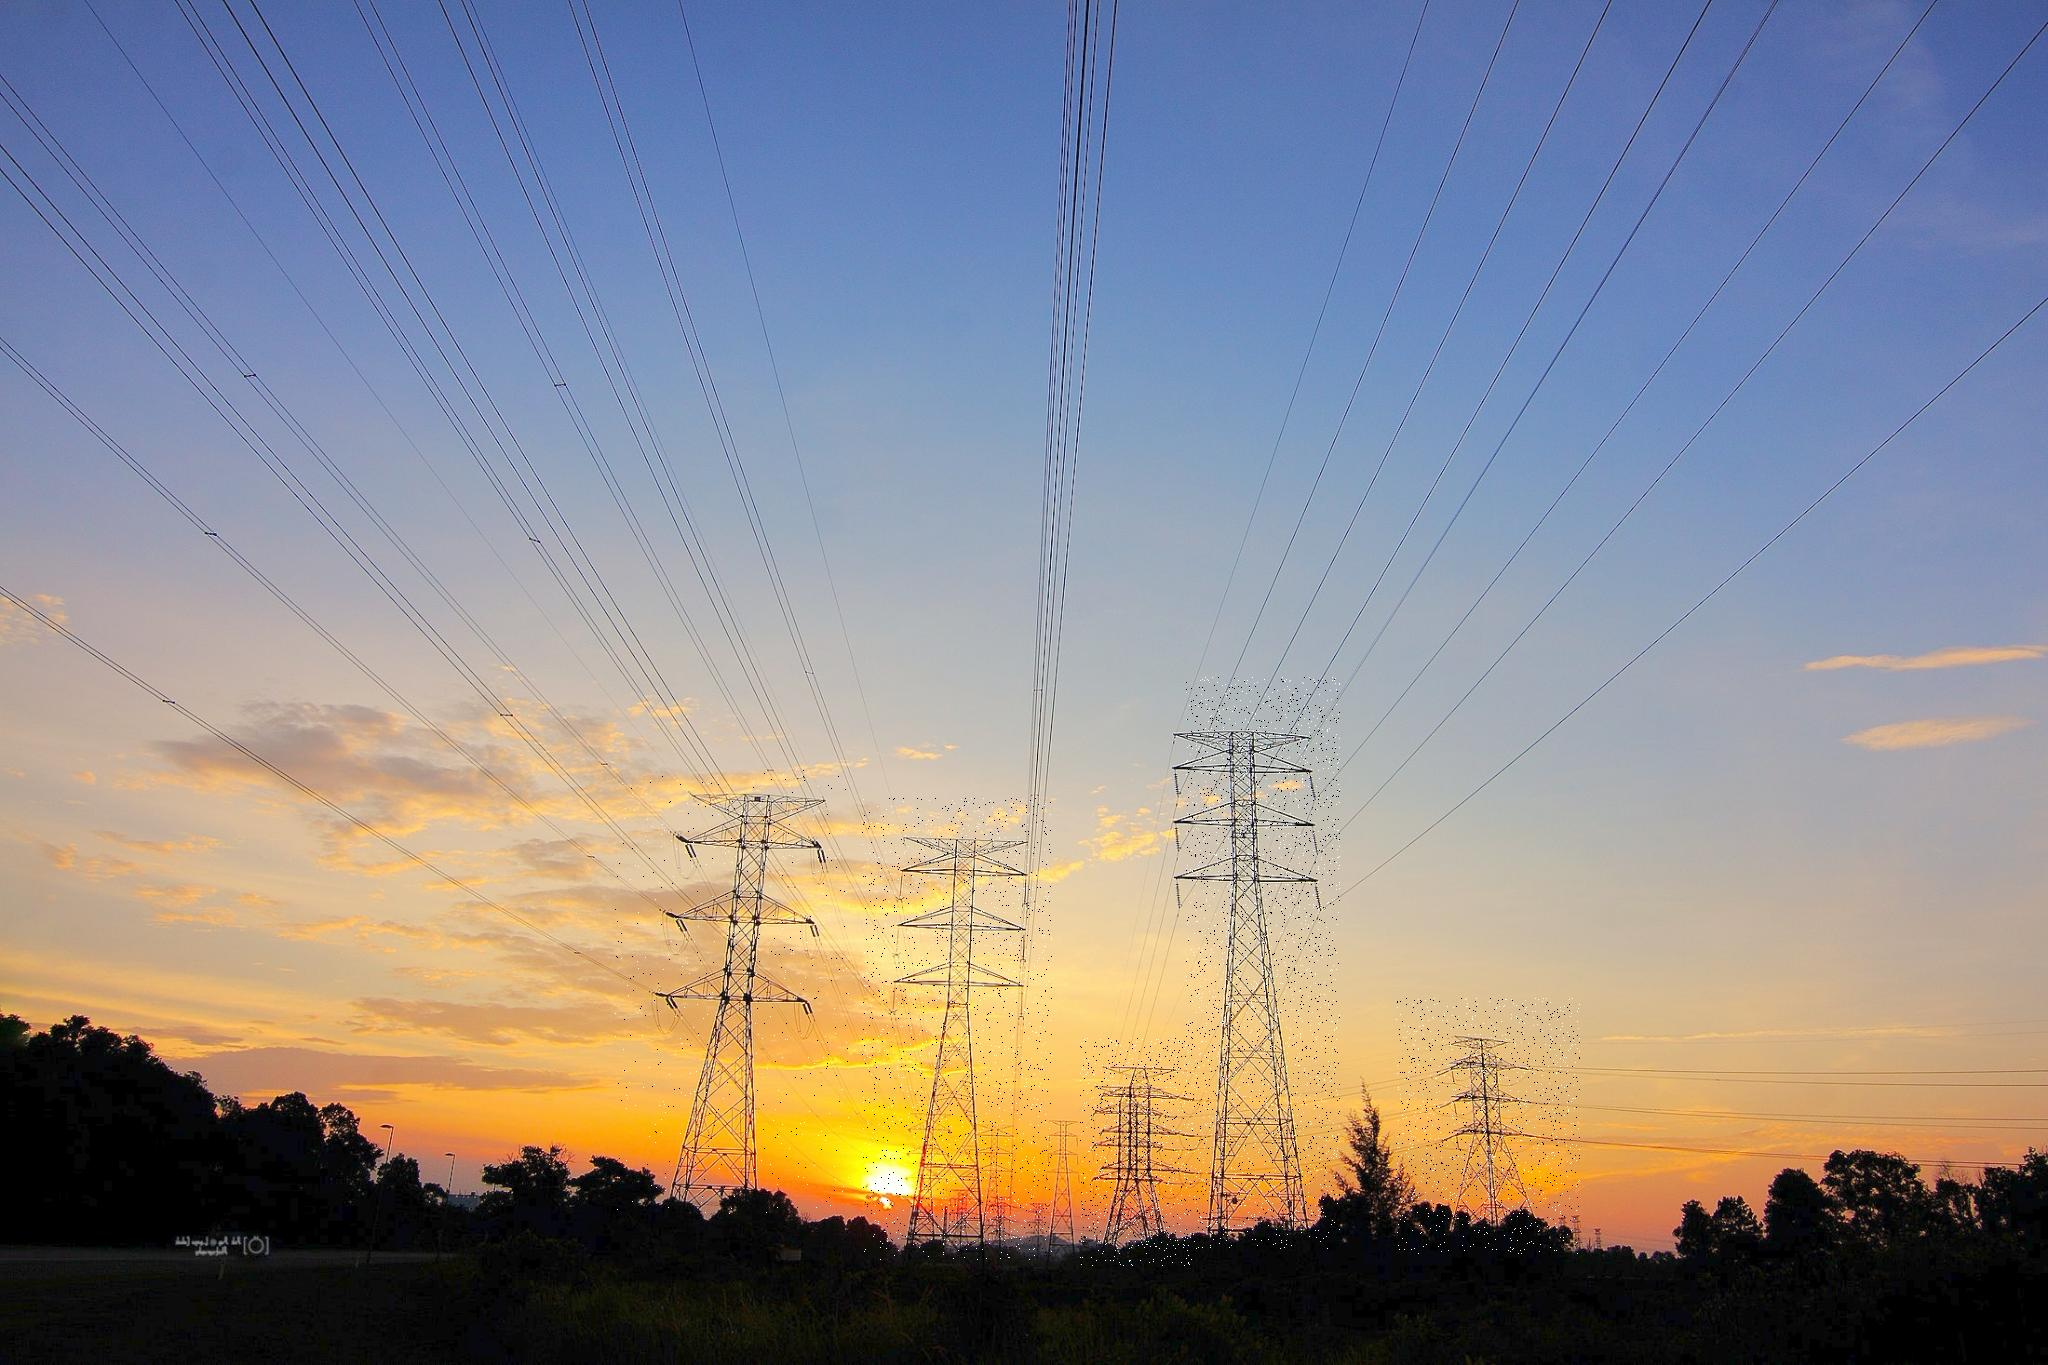cable tower: (615, 768, 850, 1216), (1186, 676, 1340, 1249), (862, 798, 1052, 1260), (1396, 998, 1581, 1254), (1080, 1037, 1194, 1266), (1038, 1114, 1089, 1260), (971, 1120, 1022, 1251)
